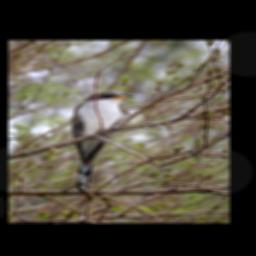Cuckoo: (69, 90, 135, 191)
